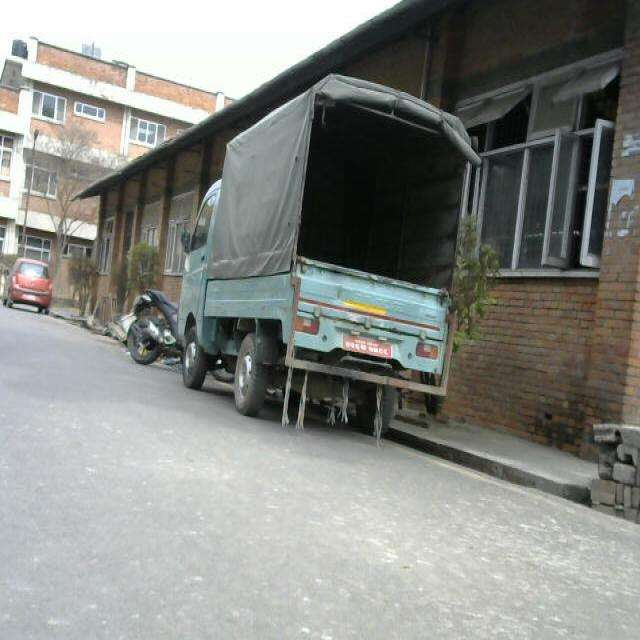Buildings: (0, 12, 201, 205)
Car: (3, 249, 61, 324)
Road: (3, 306, 640, 640)
Vehicle: (164, 82, 475, 444)
